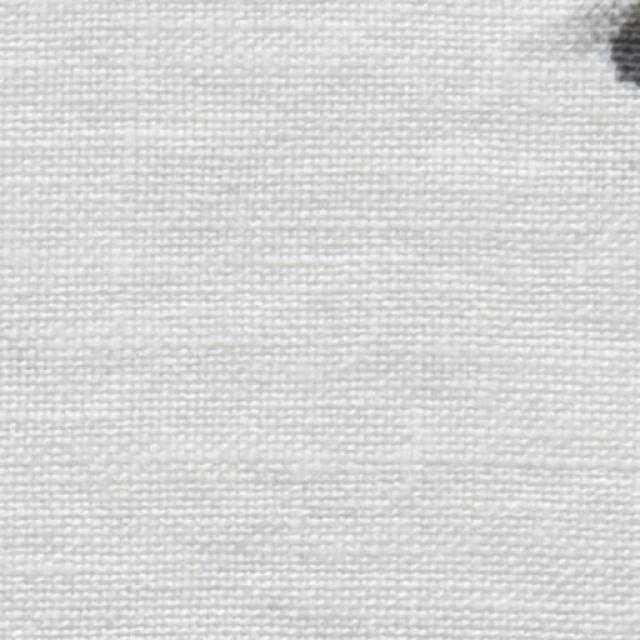Stain: (590, 1, 640, 83)
